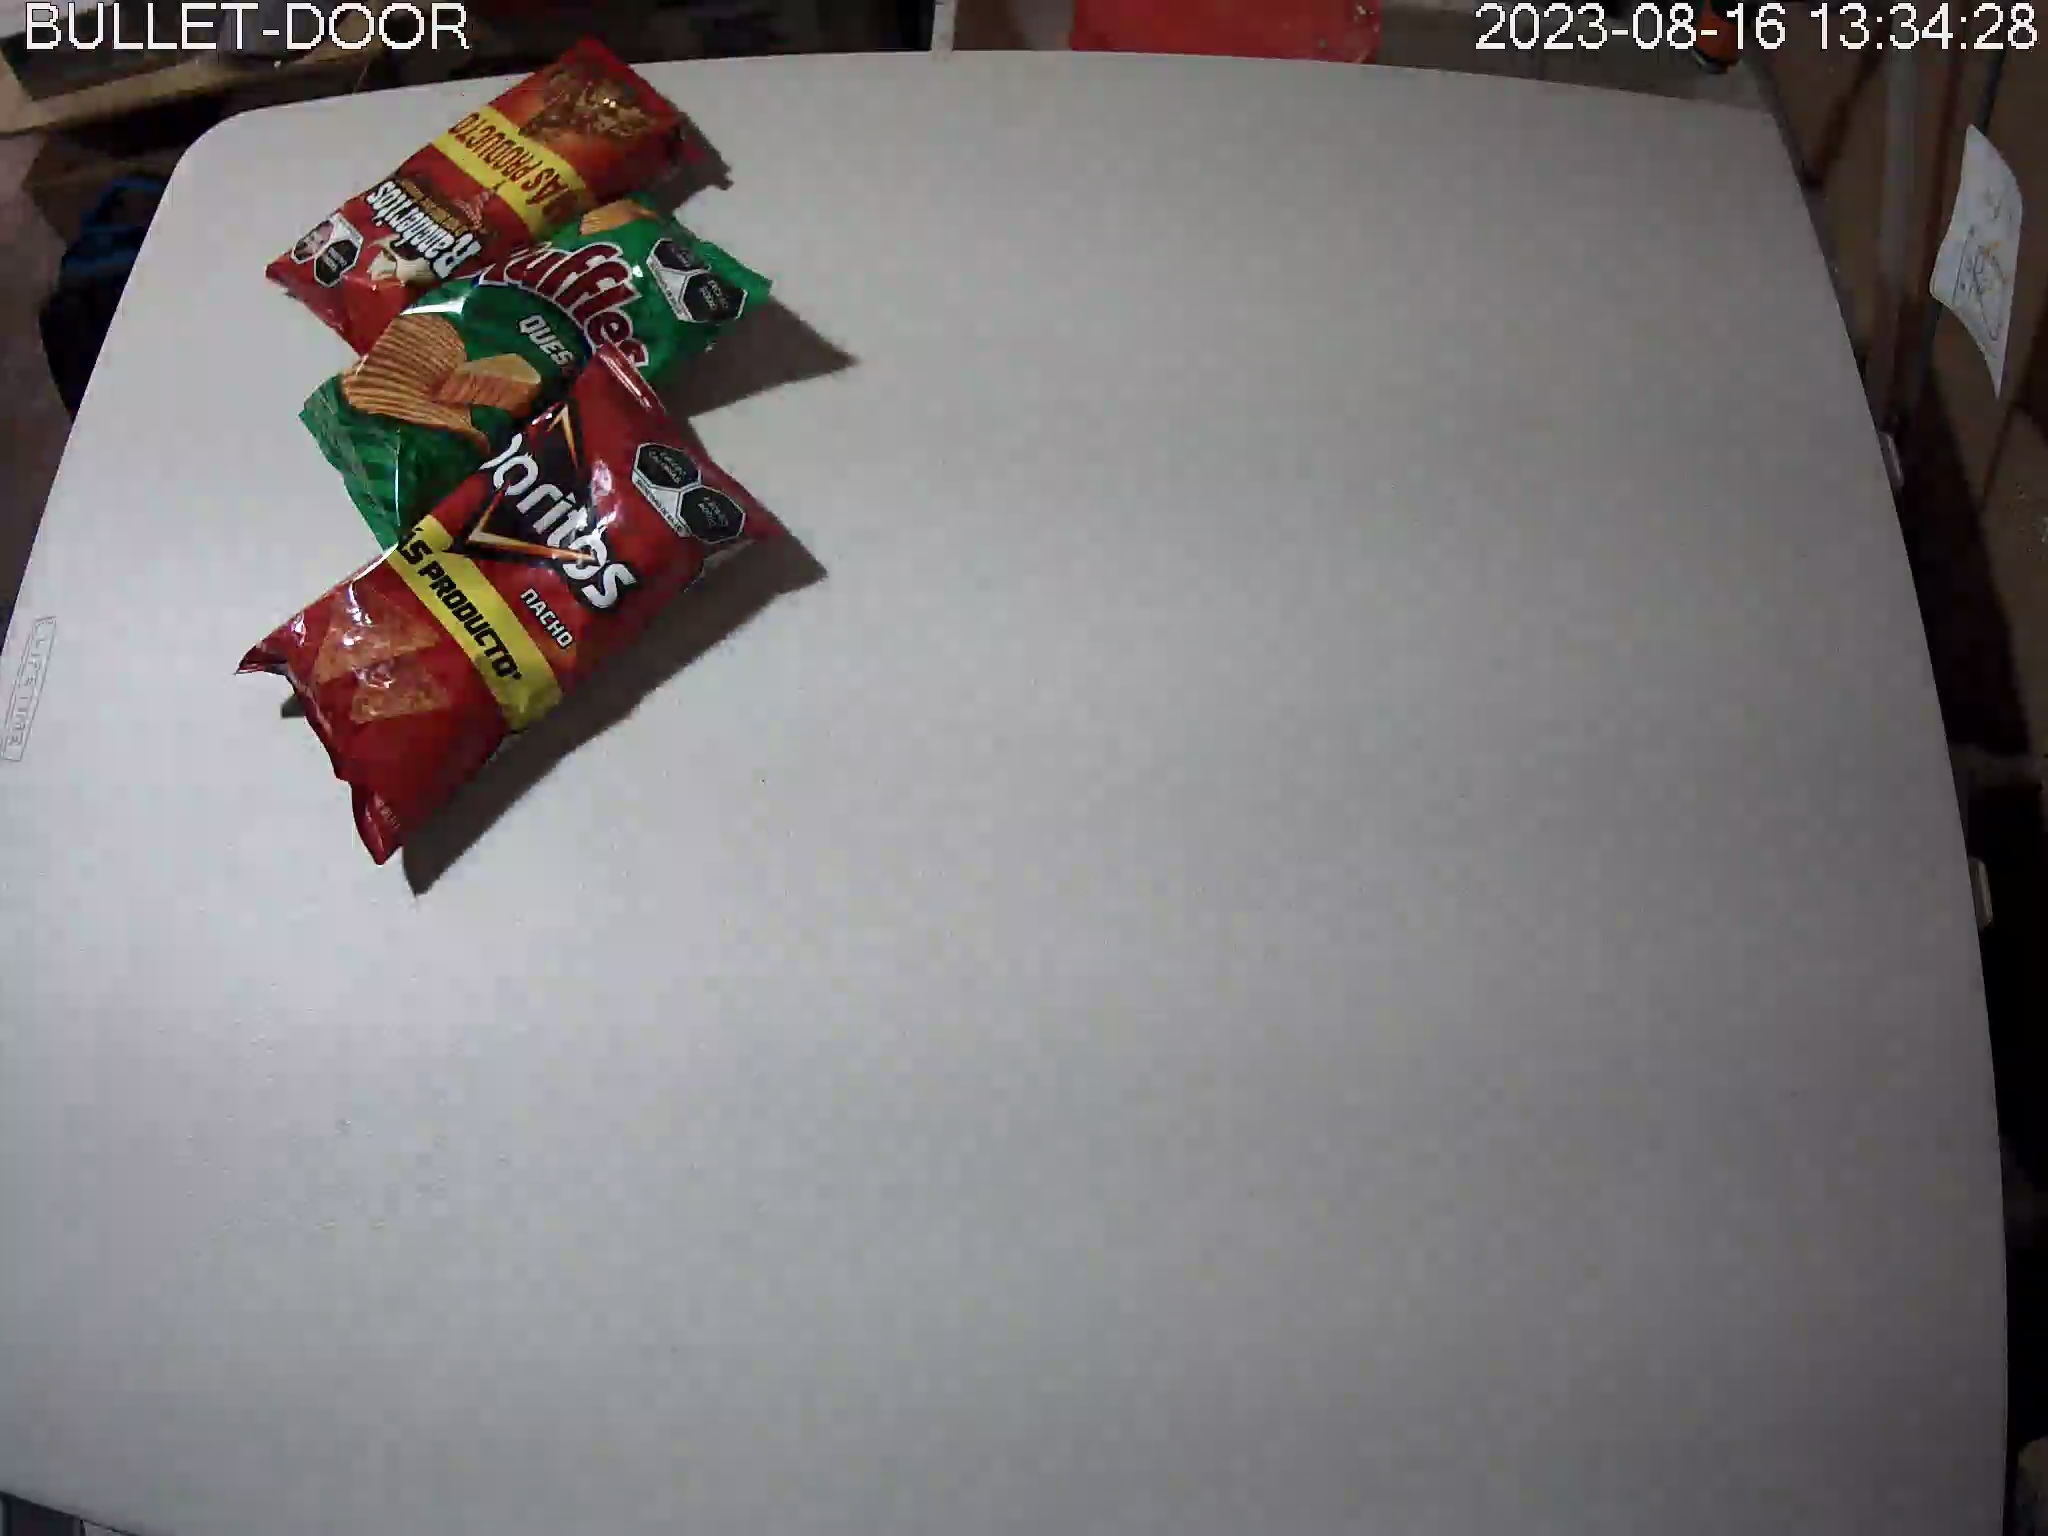DoritosN_61_F: (231, 345, 785, 866)
Rancheritos_58_F: (264, 35, 714, 365)
RufflesQ_48_F: (300, 189, 776, 558)
